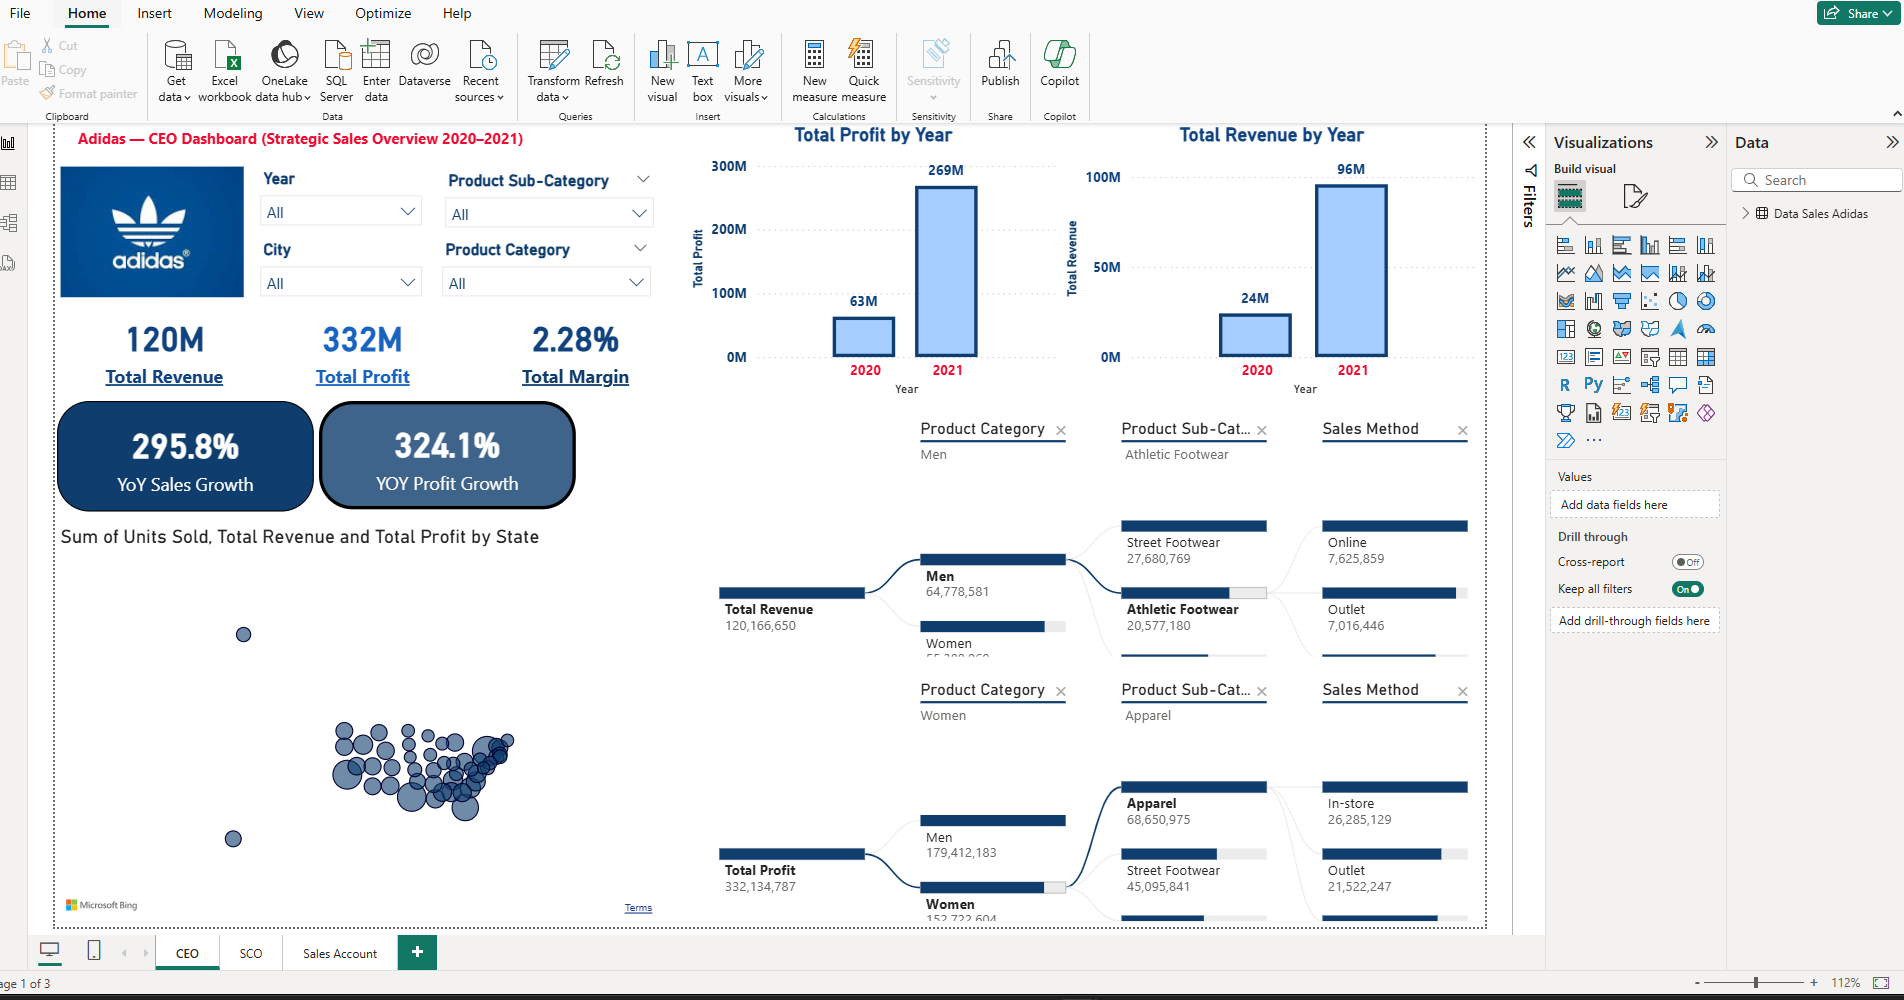

Layout of this report page (visuals, bound fields, positions):
{"tool":"powerbi","page":{"name":"CEO","canvas":[1280,720],"ordinal":0},"visuals":[{"type":"decompositionTreeVisual","fields":{"Analyze":["Measure.Total Revenue"],"ExplainBy":["Data Sales Adidas.Product Category","Data Sales Adidas.Product Sub-Category","Data Sales Adidas.Sales Method"]},"box":[564.8,248.6,715.2,234.3],"z":0},{"type":"decompositionTreeVisual","fields":{"ExplainBy":["Data Sales Adidas.Product Category","Data Sales Adidas.Product Sub-Category","Data Sales Adidas.Sales Method"],"Analyze":["Measure.Total Profit"]},"box":[564.8,482.9,715.2,237.4],"z":1000},{"type":"clusteredColumnChart","fields":{"Y":["Measure.Total Profit"],"Category":["Data Sales Adidas.yearr"]},"box":[564.8,0,335.6,248.6],"z":2000},{"type":"clusteredColumnChart","fields":{"Y":["Measure.Total Revenue"],"Category":["Data Sales Adidas.yearr"]},"box":[900.4,0,379.6,248.6],"z":3000},{"type":"map","fields":{"Size":["Sum(Data Sales Adidas.Units Sold)"],"Category":["Data Sales Adidas.State"]},"box":[0,360.2,564.8,360.2],"z":4000},{"type":"card","fields":{"Values":["Data Sales Adidas.YoY Sales Growthh"]},"box":[1.8,249,230.1,98.5],"z":5000},{"type":"card","fields":{"Values":["Data Sales Adidas.YoY Profit Growth"]},"box":[236.3,249,230,96.5],"z":6000},{"type":"card","fields":{"Values":["Measure.Total Margin"]},"box":[389.7,161.5,153.3,81.2],"z":7000},{"type":"card","fields":{"Values":["Measure.Total Profit"]},"box":[187.6,161.5,175,81.2],"z":8000},{"type":"card","fields":{"Values":["Measure.Total Revenue"]},"box":[0,161.5,195.7,81.2],"z":9000},{"type":"slicer","fields":{"Values":["Data Sales Adidas.City"]},"box":[174.1,100.1,165.1,61.3],"z":10000},{"type":"slicer","fields":{"Values":["Data Sales Adidas.Year_type"]},"box":[174.1,37,165.1,61.3],"z":11000},{"type":"slicer","fields":{"Values":["Data Sales Adidas.Product Category"]},"box":[336.5,100.1,206.6,61.3],"z":12000},{"type":"slicer","fields":{"Values":["Data Sales Adidas.Product Sub-Category"]},"box":[339.2,38.8,206.6,61.3],"z":13000},{"type":"image","box":[0,34.3,174.1,127.2],"z":14000},{"type":"textbox","box":[0,0,440,32],"z":15000}]}

Visuals, with their boxes on the page's 1280x720 design canvas (x1, y1, x2, y2). These are canvas units, not pixel positions in the 1904x1000 screenshot, which may show the page scaled, cropped or inside an application window:
decompositionTreeVisual - Measure.Total Revenue x Data Sales Adidas.Product Category: BBox(565, 249, 1280, 483)
decompositionTreeVisual - Data Sales Adidas.Product Category x Data Sales Adidas.Product Sub-Category: BBox(565, 483, 1280, 720)
clusteredColumnChart - Measure.Total Profit x Data Sales Adidas.yearr: BBox(565, 0, 900, 249)
clusteredColumnChart - Measure.Total Revenue x Data Sales Adidas.yearr: BBox(900, 0, 1280, 249)
map - Sum(Data Sales Adidas.Units Sold) x Data Sales Adidas.State: BBox(0, 360, 565, 720)
card - Data Sales Adidas.YoY Sales Growthh: BBox(2, 249, 232, 348)
card - Data Sales Adidas.YoY Profit Growth: BBox(236, 249, 466, 346)
card - Measure.Total Margin: BBox(390, 162, 543, 243)
card - Measure.Total Profit: BBox(188, 162, 363, 243)
card - Measure.Total Revenue: BBox(0, 162, 196, 243)
slicer - Data Sales Adidas.City: BBox(174, 100, 339, 161)
slicer - Data Sales Adidas.Year_type: BBox(174, 37, 339, 98)
slicer - Data Sales Adidas.Product Category: BBox(336, 100, 543, 161)
slicer - Data Sales Adidas.Product Sub-Category: BBox(339, 39, 546, 100)
image: BBox(0, 34, 174, 162)
textbox: BBox(0, 0, 440, 32)
